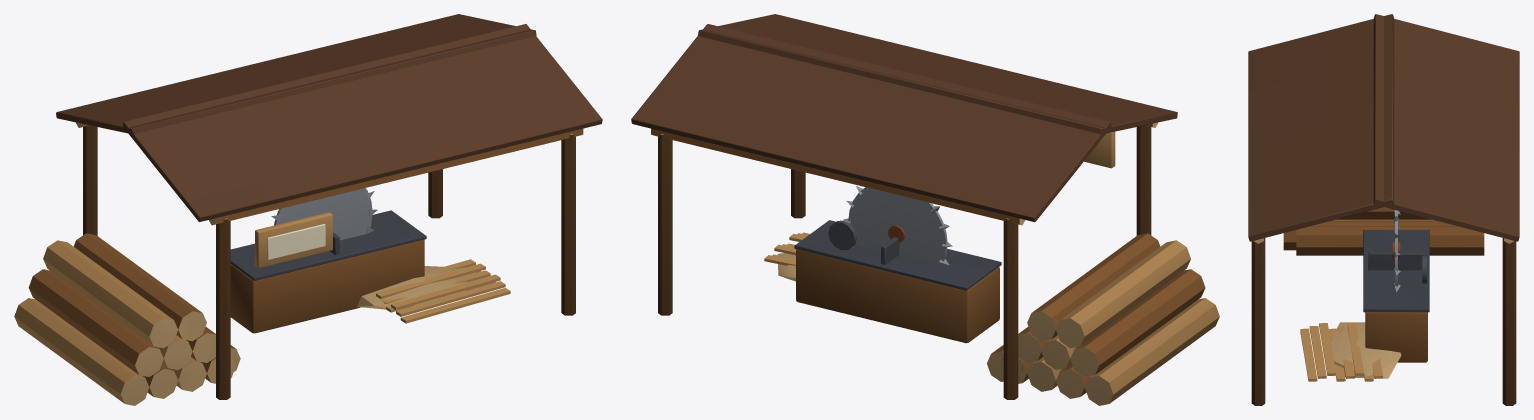
The model's file is sawmill.glb.
3 renders of one model, left to right at view 1: azimuth 30°, elevation 25°; view 2: azimuth 150°, elevation 25°; view 3: azimuth 270°, elevation 25°, orthographic. The views are drawn at different scales.
Parts seen in each view (by area): view 1: sawmill, sawmill_craft; view 2: sawmill, sawmill_craft; view 3: sawmill, sawmill_craft.
Part boxes in pixels (left/top/right/bottom): sawmill: left=14, top=14, right=602, bottom=405; sawmill_craft: left=376, top=259, right=510, bottom=323; sawmill: left=631, top=14, right=1219, bottom=405; sawmill_craft: left=764, top=220, right=856, bottom=265; sawmill: left=1248, top=14, right=1519, bottom=405; sawmill_craft: left=1300, top=255, right=1426, bottom=381.
Bounding box in the file's own units: 8.06 × 3.83 × 4.33.
